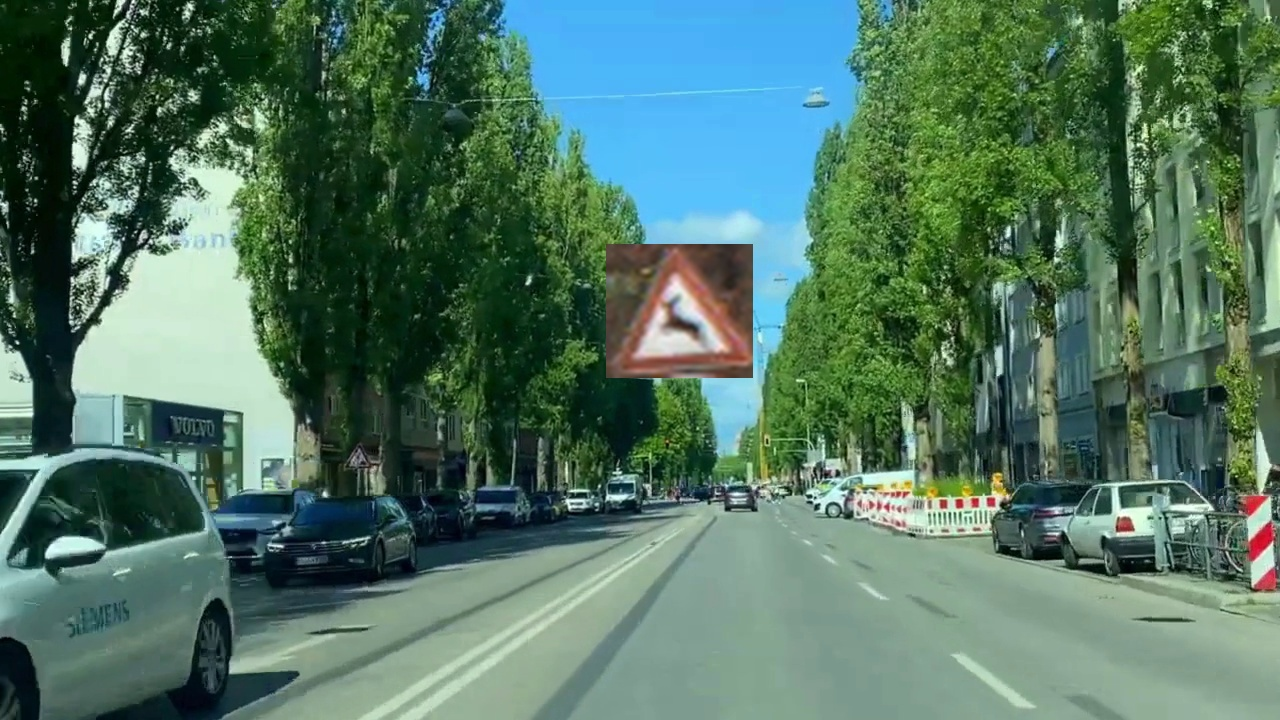Wild animals: (606, 244, 753, 378)
